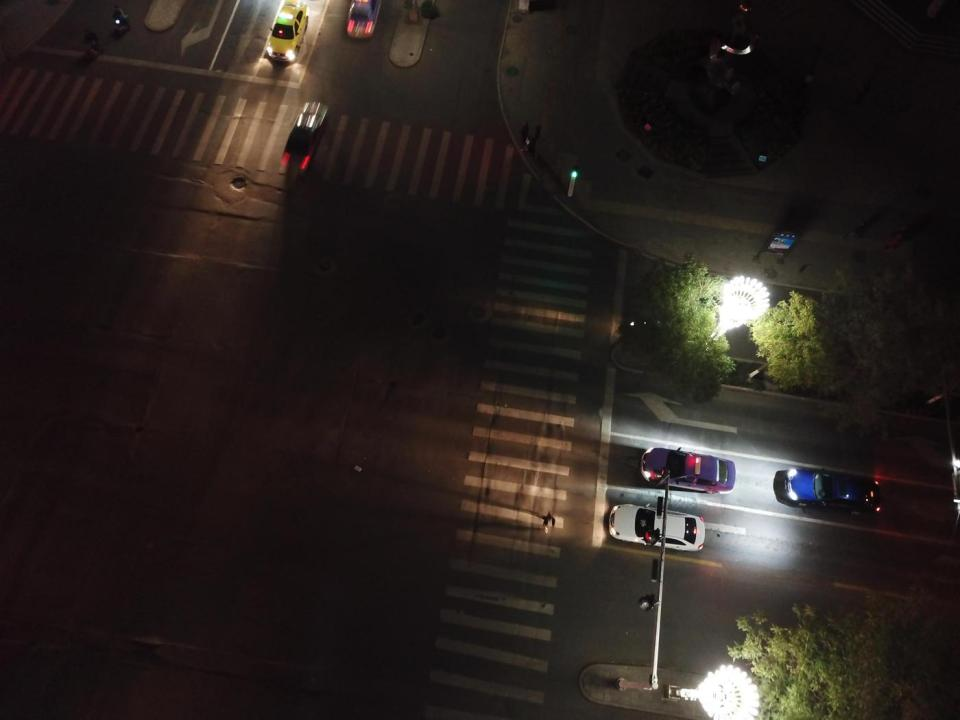car: (608, 504, 706, 552), (641, 447, 735, 494), (785, 468, 882, 512), (282, 102, 328, 175), (267, 1, 310, 62), (347, 2, 378, 38)
